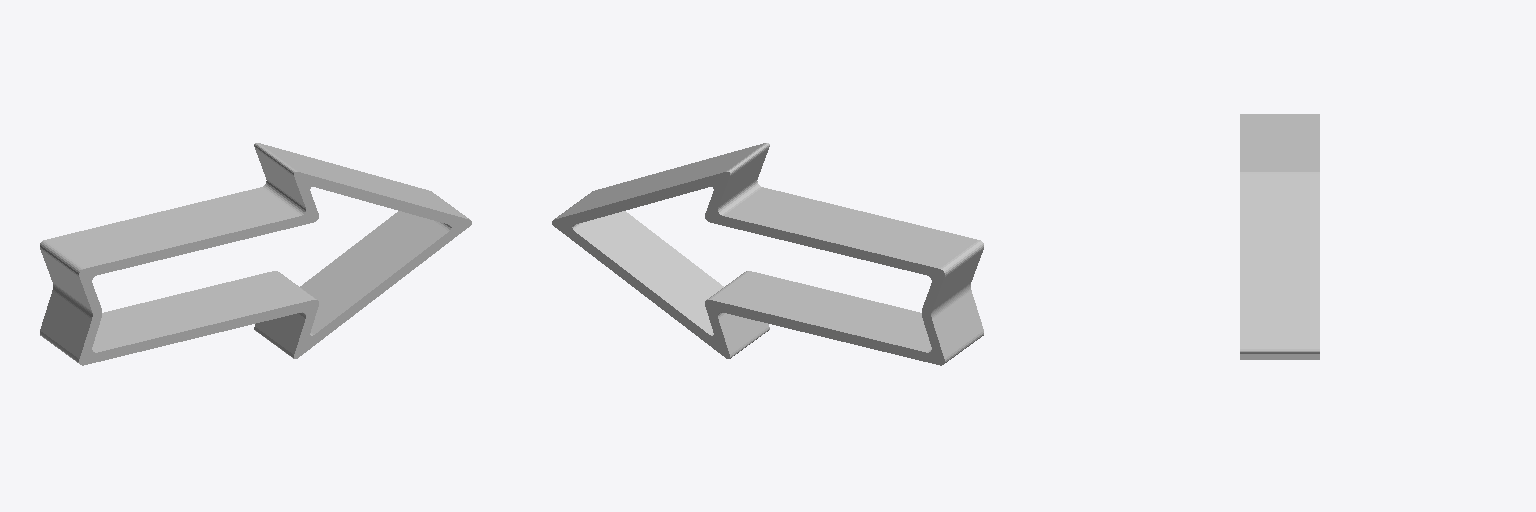
File: Arrow_32.obj
3 views of the same model, side by side, from view 1: azimuth 30°, elevation 25°; view 2: azimuth 150°, elevation 25°; view 3: azimuth 270°, elevation 25° (orthographic).
Visible parts, largest first — view 1: Arrow_32; view 2: Arrow_32; view 3: Arrow_32.
Boxes of the visible parts, x1=… form: Arrow_32: x1=40, y1=143, x2=471, y2=365; Arrow_32: x1=552, y1=143, x2=983, y2=365; Arrow_32: x1=1240, y1=114, x2=1319, y2=359.
Size of the model in its own units: 4.26 by 1.94 by 0.7423.